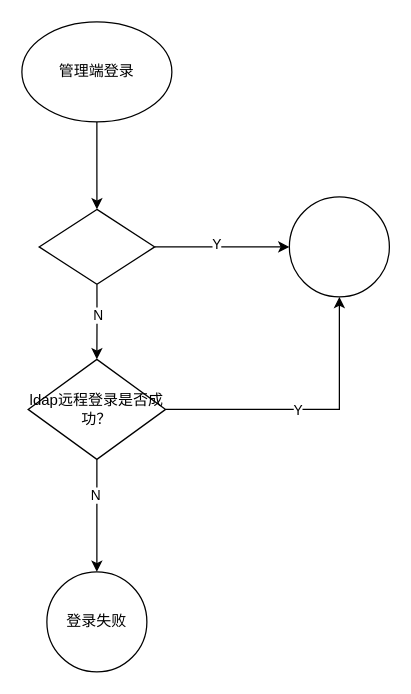
This 411x694 diagram has some shape labels left out. The centre of each missing label's shape, as x and y in pixels:
Nacos本地登录是否成功？: the point at 96,246
登录成功: the point at 338,246
